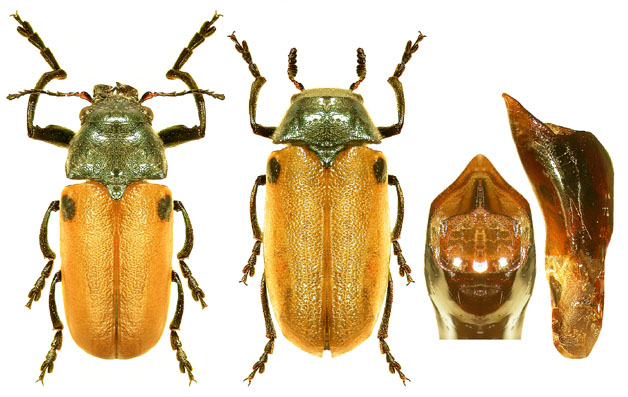Labidostomis_asiatica: (5, 5, 228, 393), (224, 19, 425, 390)
